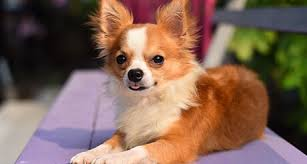Bulldog: (66, 3, 285, 163)
